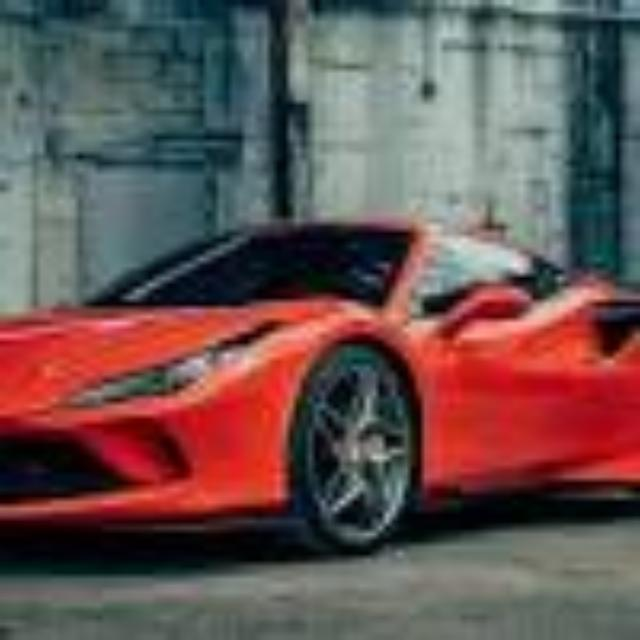ferrari: (0, 219, 640, 556)
